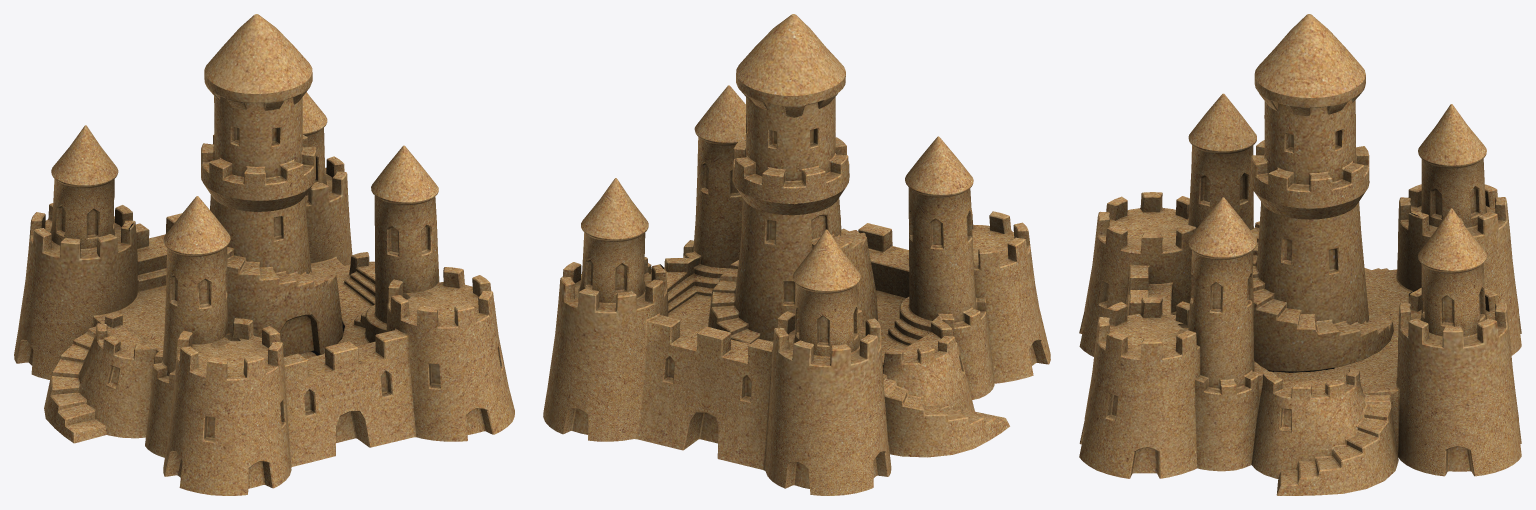
Rendered from low_poly_sand_castle.glb.
The picture shows the model from 3 angles, left to right: view 1: azimuth 30°, elevation 25°; view 2: azimuth 150°, elevation 25°; view 3: azimuth 270°, elevation 25°; orthographic projection. The views are drawn at different scales.
Parts seen in each view (by area): view 1: Cylinder.001, Cylinder.002; view 2: Cylinder.001, Cylinder.002; view 3: Cylinder.001, Cylinder.002.
Part boxes in pixels (x1,y1,x2,y2): Cylinder.001: [14, 92, 514, 495]; Cylinder.002: [201, 14, 343, 356]; Cylinder.001: [543, 85, 1050, 495]; Cylinder.002: [708, 14, 877, 343]; Cylinder.001: [1079, 93, 1521, 495]; Cylinder.002: [1250, 14, 1393, 371].
Size of the model in its own units: 9.07 by 7.95 by 8.42.
Materials: 1 (1 with a texture image).
